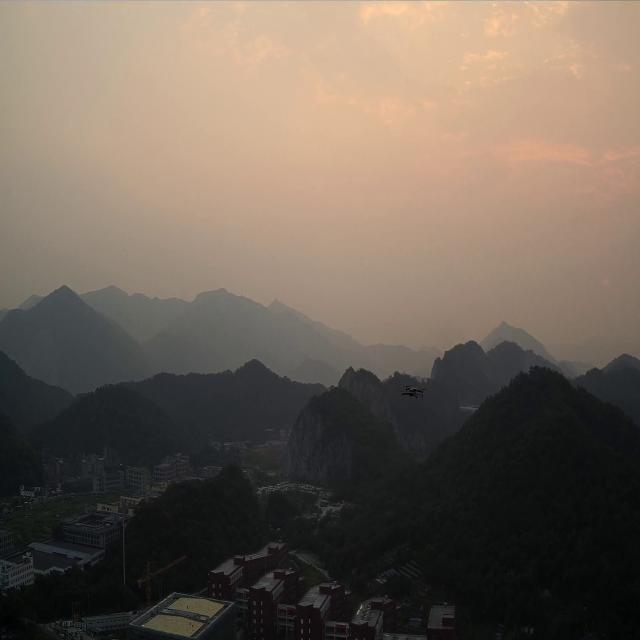drone: (401, 385, 427, 398)
